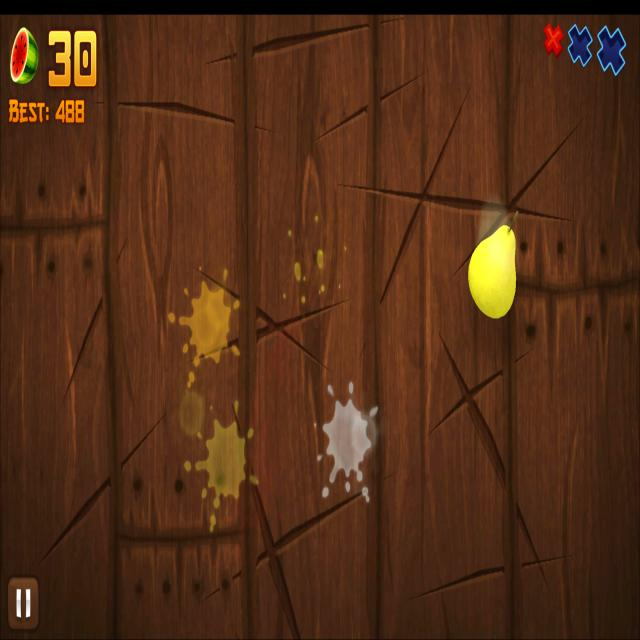fruit: (468, 224, 516, 318)
